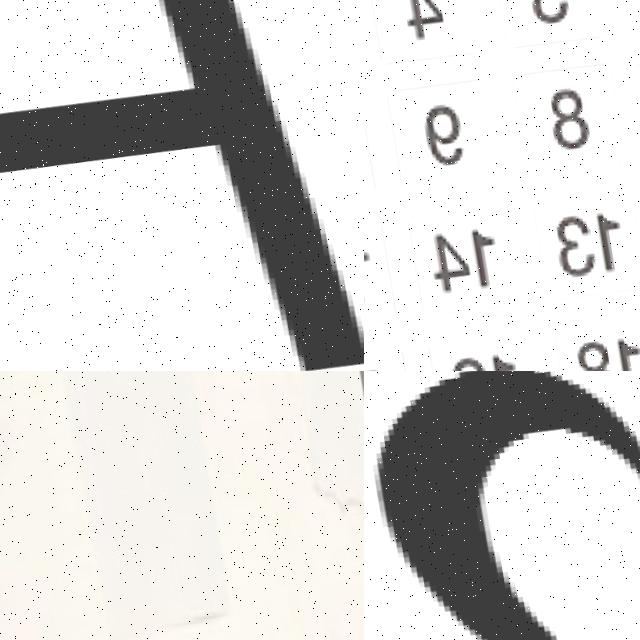1: (589, 193, 631, 283), (467, 222, 504, 297), (608, 324, 640, 371), (481, 342, 525, 371), (364, 236, 379, 307)
2: (364, 371, 640, 640)
3: (546, 207, 598, 288), (515, 0, 577, 30)
4: (423, 225, 474, 302), (394, 0, 450, 44)
8: (538, 77, 596, 155), (564, 321, 617, 371)
9: (419, 95, 472, 175), (438, 350, 497, 371)
F: (0, 0, 364, 371)
